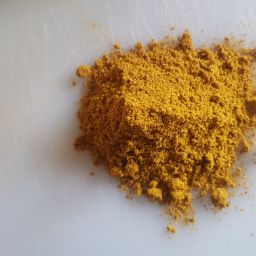Curry powder: (67, 33, 256, 233), (67, 23, 210, 209), (114, 82, 240, 212)
